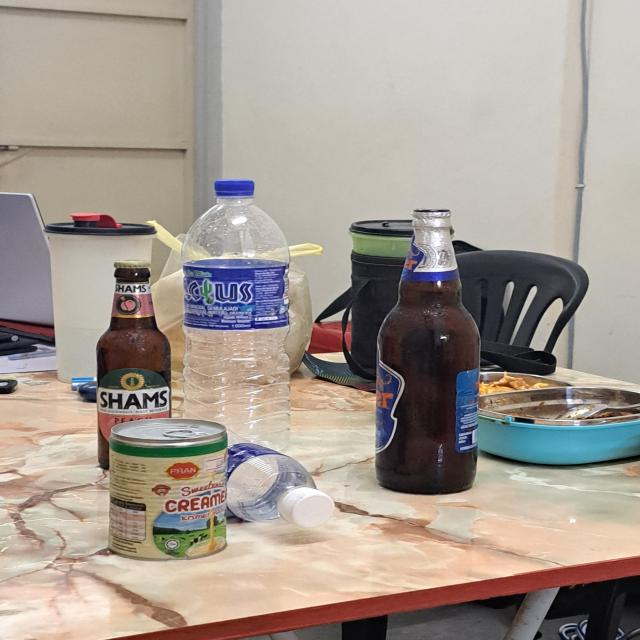can: (107, 418, 230, 561)
glass bottle: (376, 208, 480, 496), (96, 260, 173, 470)
plastic bottle: (181, 197, 291, 455), (226, 428, 318, 522)
plastic bottle cap: (280, 487, 335, 528), (214, 179, 254, 197)
pop tab: (162, 429, 211, 438)
